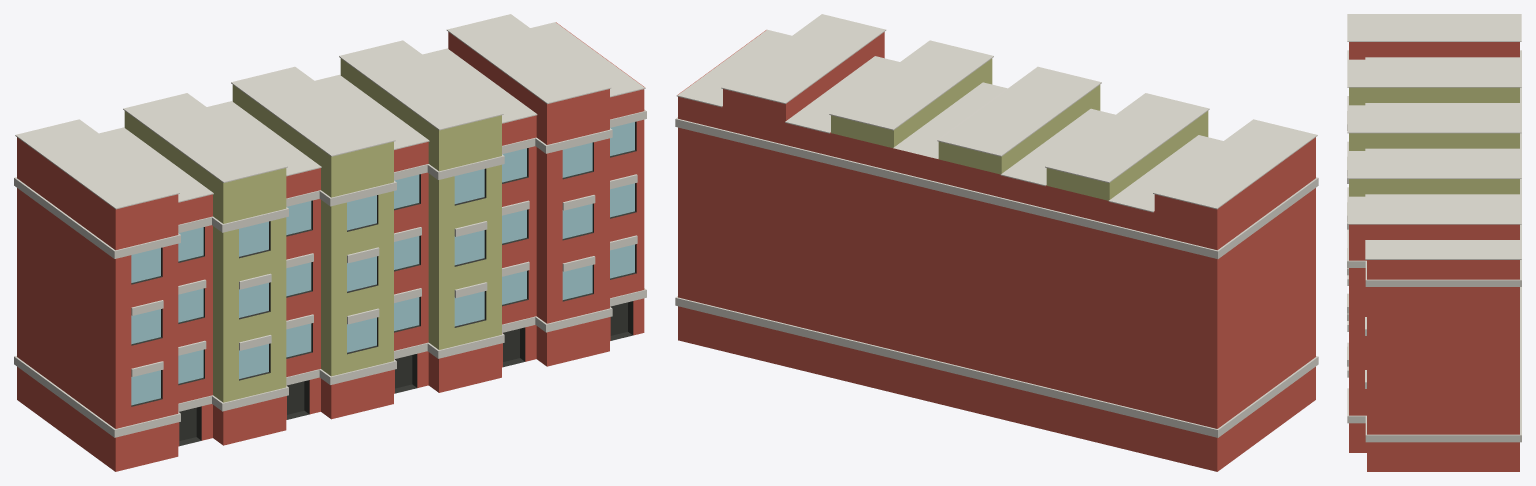
The model's file is Apartment01.fbx.
3 views of the same model, side by side, from view 1: azimuth 30°, elevation 25°; view 2: azimuth 150°, elevation 25°; view 3: azimuth 270°, elevation 25° (orthographic). The views are drawn at different scales.
Visible parts, largest first — view 1: Apartment01; view 2: Apartment01; view 3: Apartment01.
Boxes of the visible parts, x1,y1,x2,y2 form: Apartment01: (14,14,646,471); Apartment01: (675,14,1318,471); Apartment01: (1347,14,1521,471).
Bounding box in the file's own units: 604 × 281 × 194.
